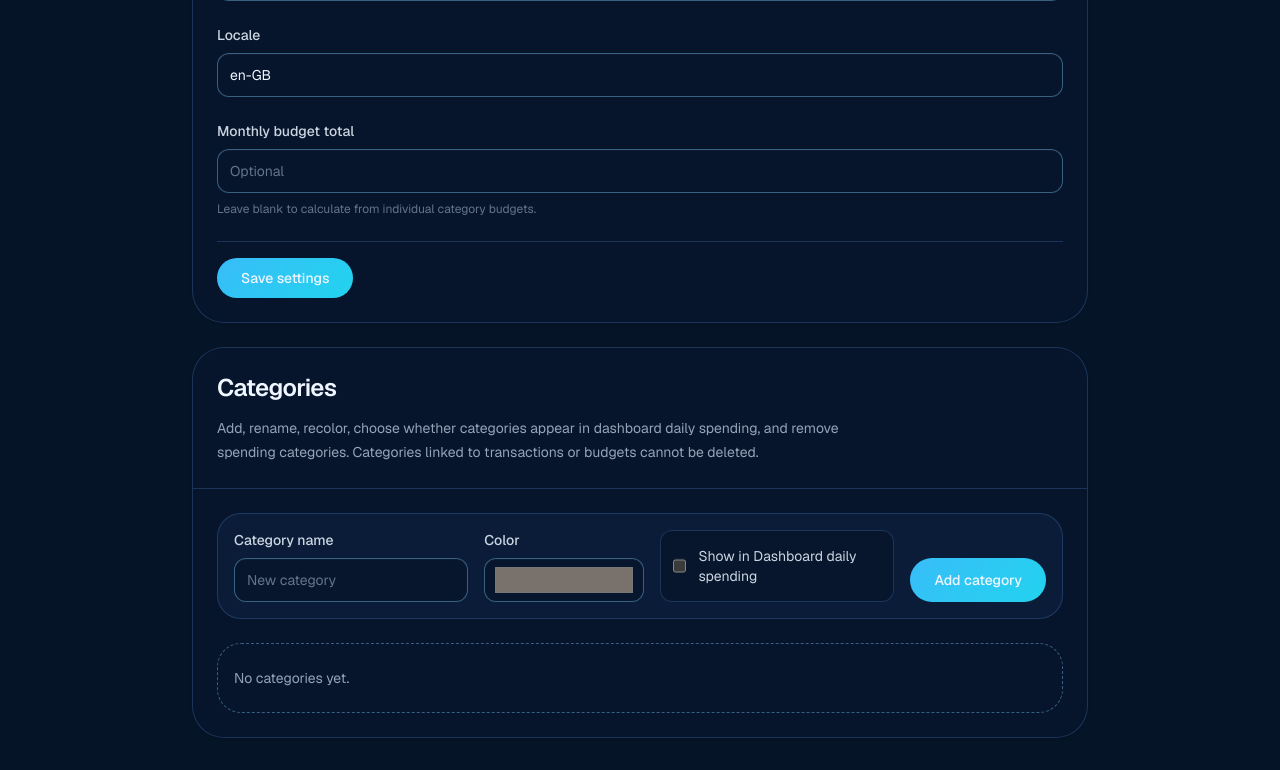
it: [Component] settings page › should create a category and refresh the list when a valid category is submitted
(page scrolled)
Type "Insurance" into the field with placeholder "New category" at (351, 580), box 234,558 -> 468,602
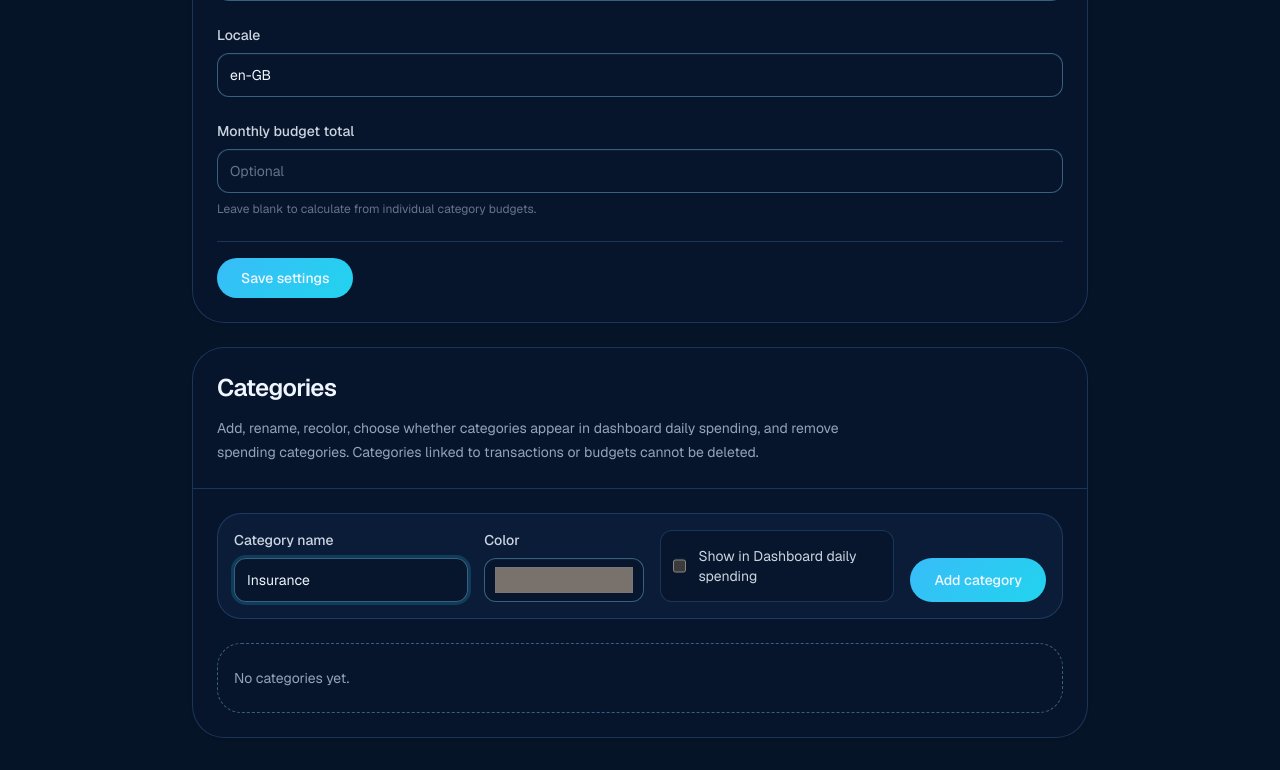
Click the button "Add category" at (978, 580), box 910,558 -> 1046,602
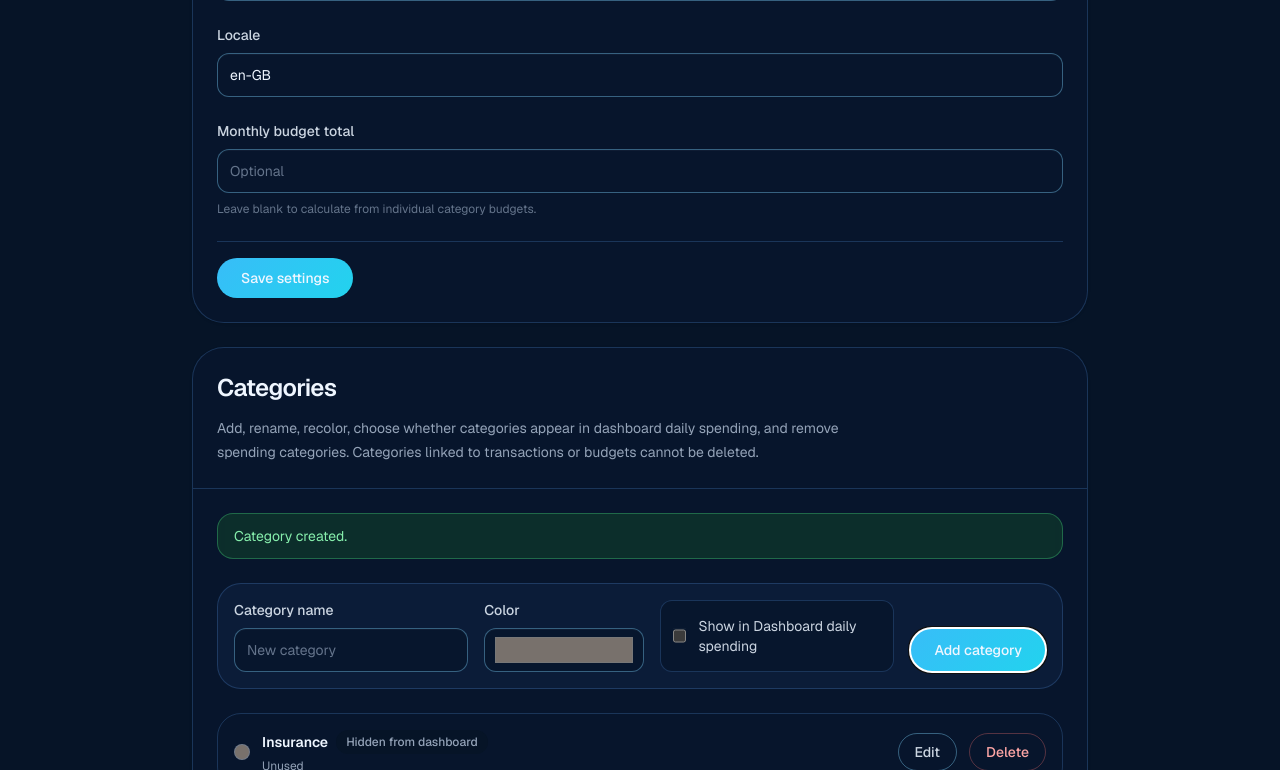
expect the text "Category created." is shown: met, box 217,513 -> 1063,559
expect the text "Insurance" is shown: met, box 262,732 -> 328,752
